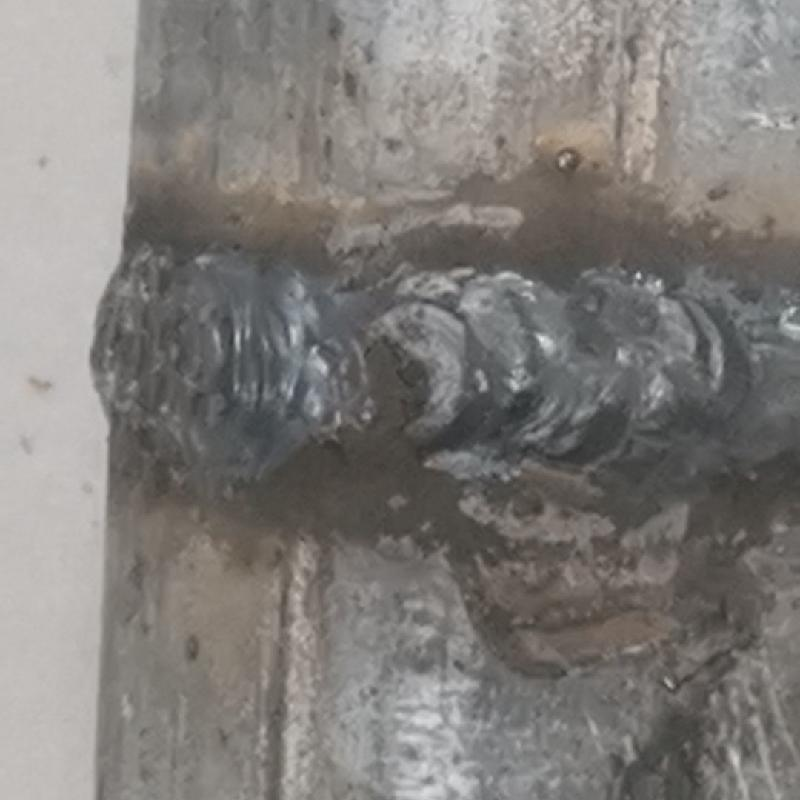good: (62, 228, 799, 510)
